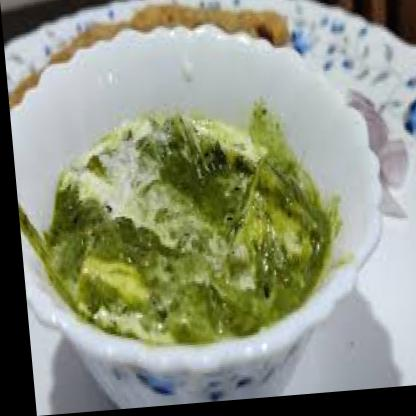palak_paneer: (31, 105, 333, 359)
